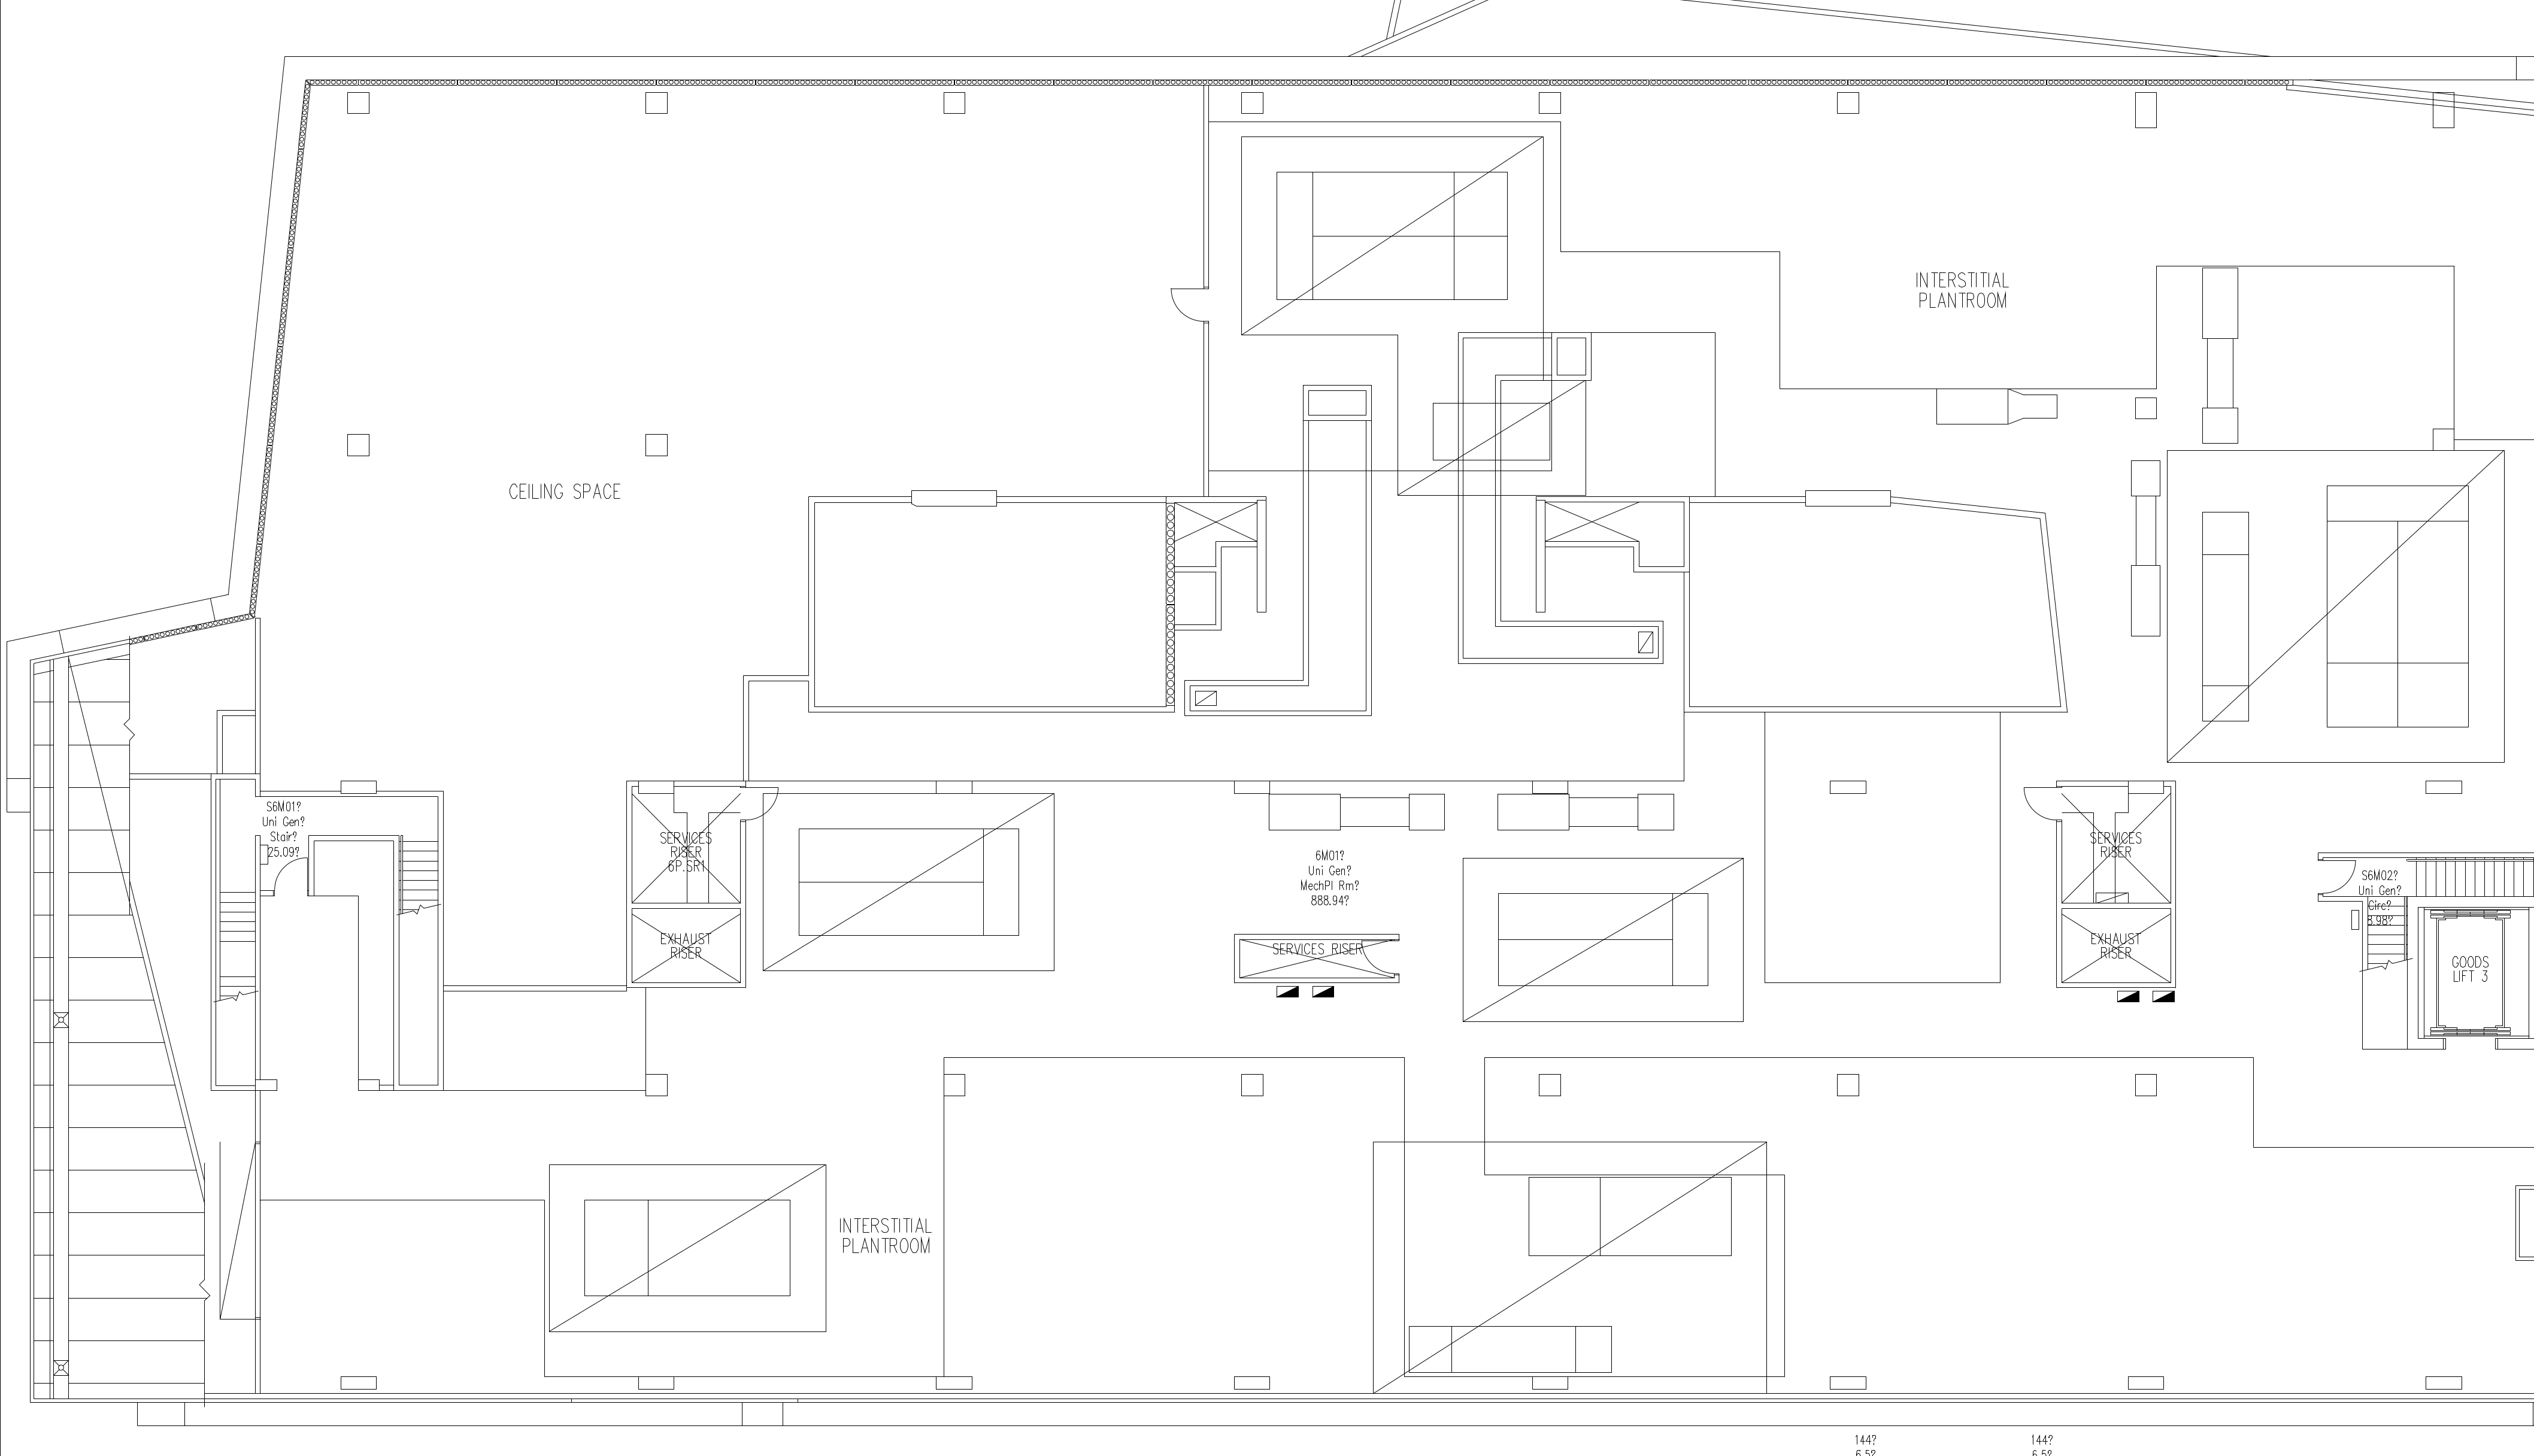room: (545, 1091, 945, 1376), (2424, 908, 2531, 1037), (632, 788, 747, 903), (2062, 786, 2172, 903), (1241, 941, 1399, 978), (259, 795, 308, 889), (2325, 858, 2416, 896)
